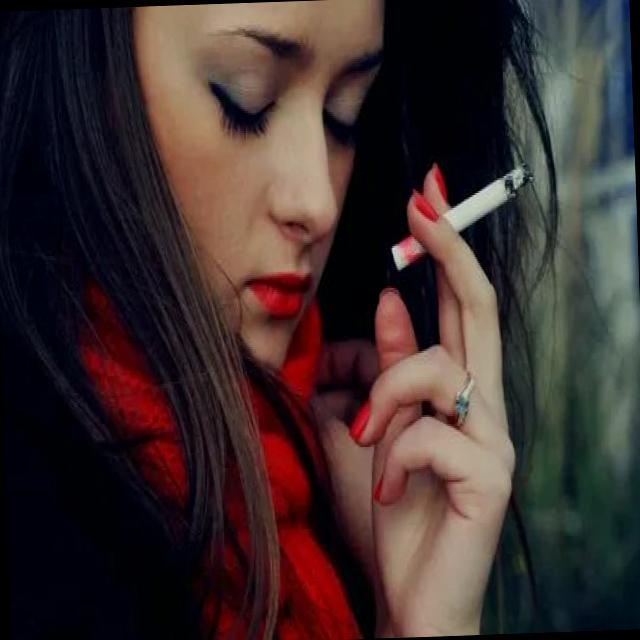smoke: (384, 154, 538, 282)
